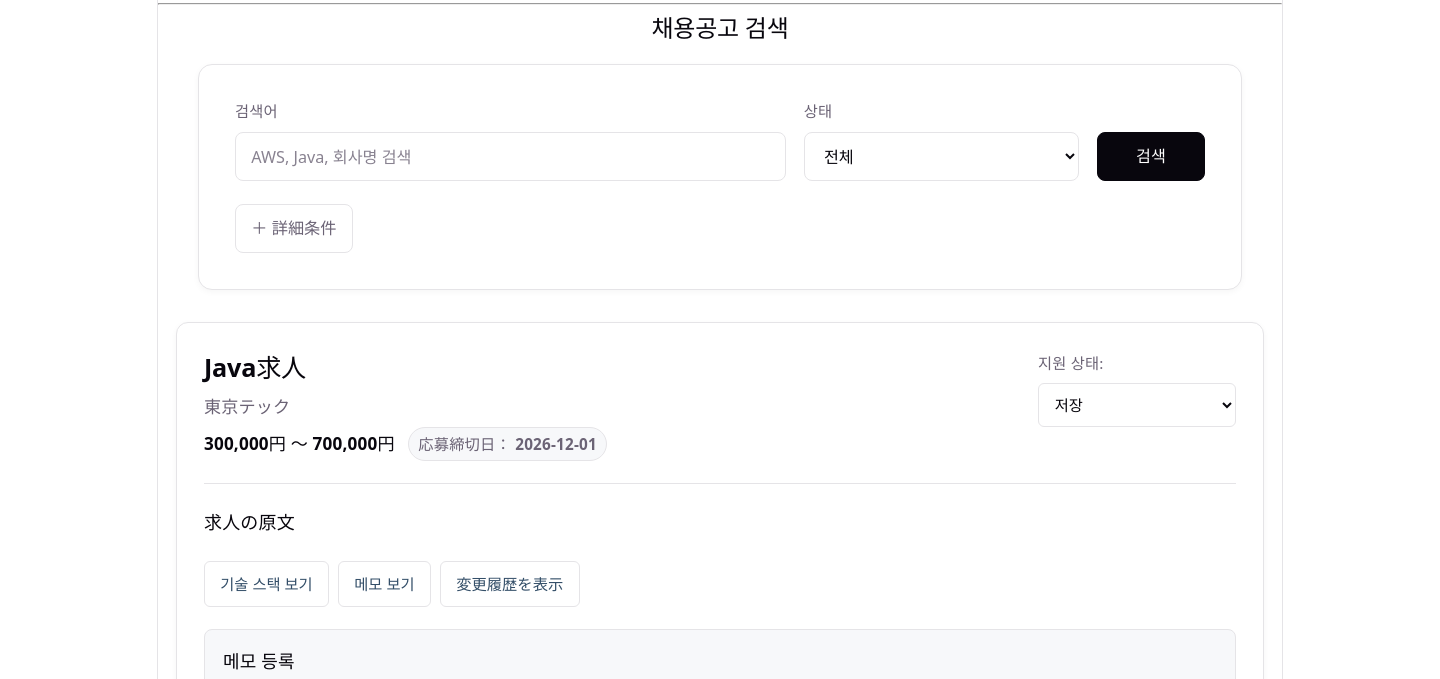
Test: 応募状況と求人一覧の独立した取得 › 応募状況の更新に失敗したら以前の集計と求人一覧を残して再試行を案内する
The width and height of the screenshot is (1440, 679).
(page scrolled)
Expected: the heading "Java求人" is shown, [204,350,306,384]
Select "지원완료" in the dropdown labelled "지원 상태:" at (1137, 405), box [1038,383,1236,427]
(page scrolled)
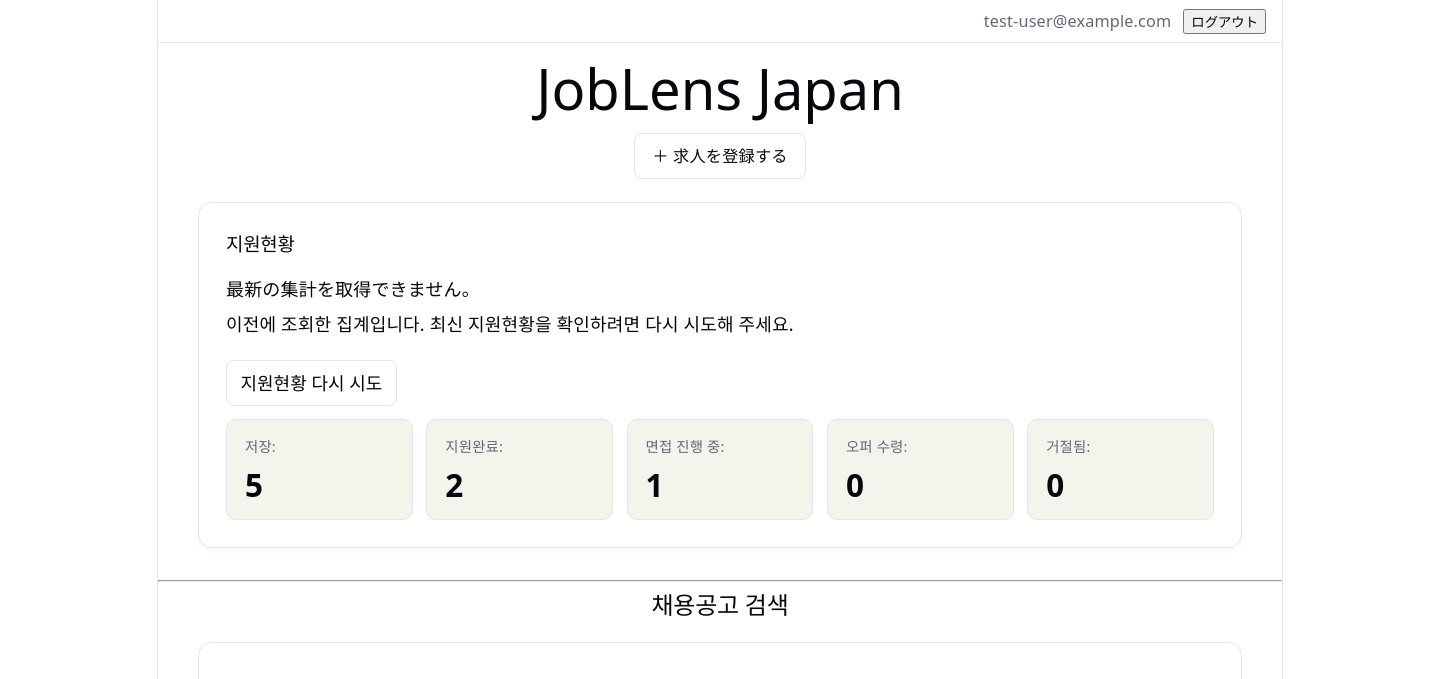
Expected: the message shows "最新の集計を取得できません。", [226,277,480,301]
Expected: the element "지원현황" shows "이전에 조회한 집계입니다.", [226,312,794,336]
Expected: the button "지원현황 다시 시도" is enabled, [226,360,397,406]
